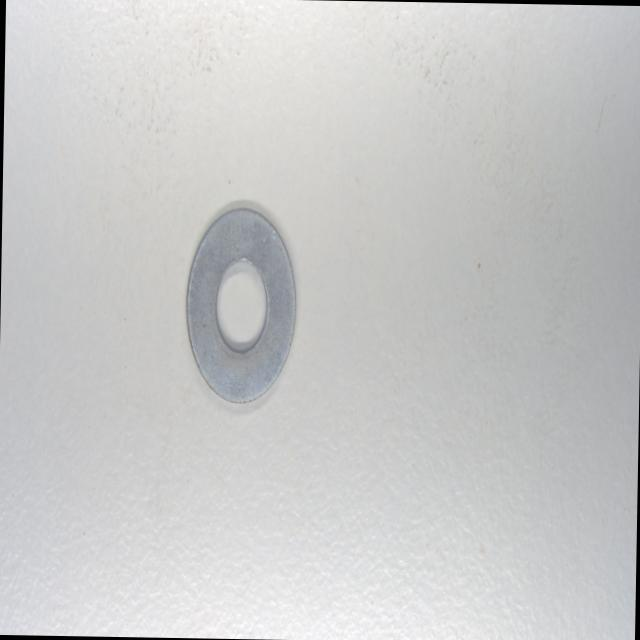washer: (183, 203, 299, 407)
